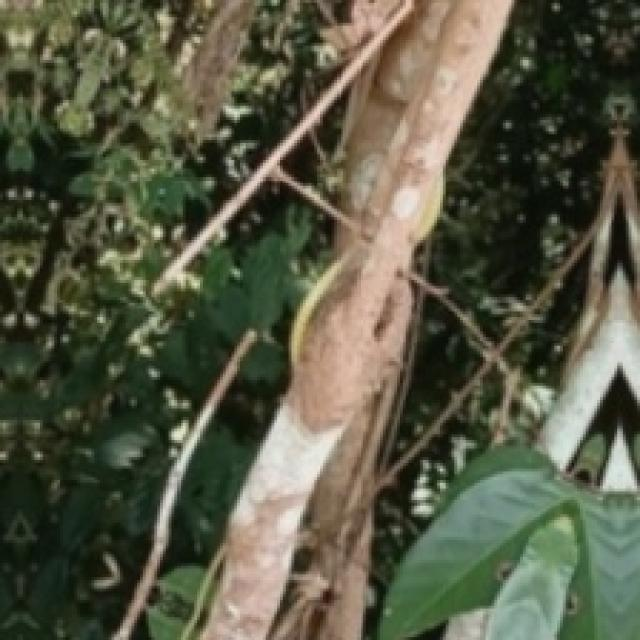paradise tree snake: (290, 250, 350, 363), (410, 175, 445, 247)
